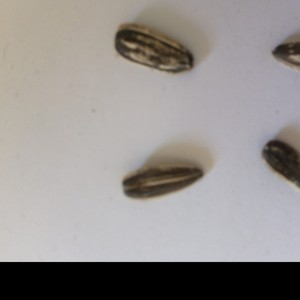girasol: (109, 22, 196, 76), (118, 160, 206, 203), (258, 138, 300, 191)
